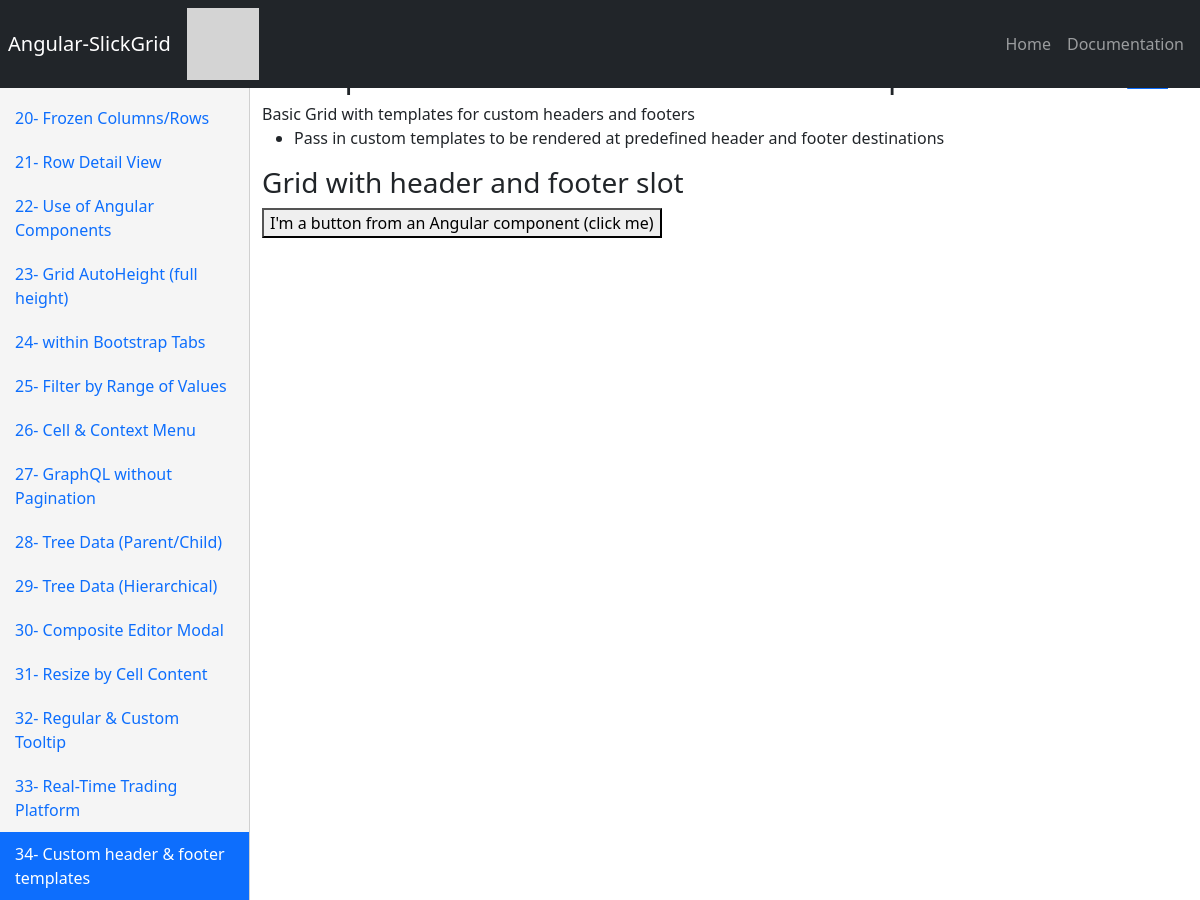
Test case: Example 34 - Custom header & footer › should have a custom footer with a clickable button
(page scrolled)
Step 1. Click the button "I'm a button from an Angular component (click me)" → [462, 223], box left=262, top=208, right=662, bottom=238
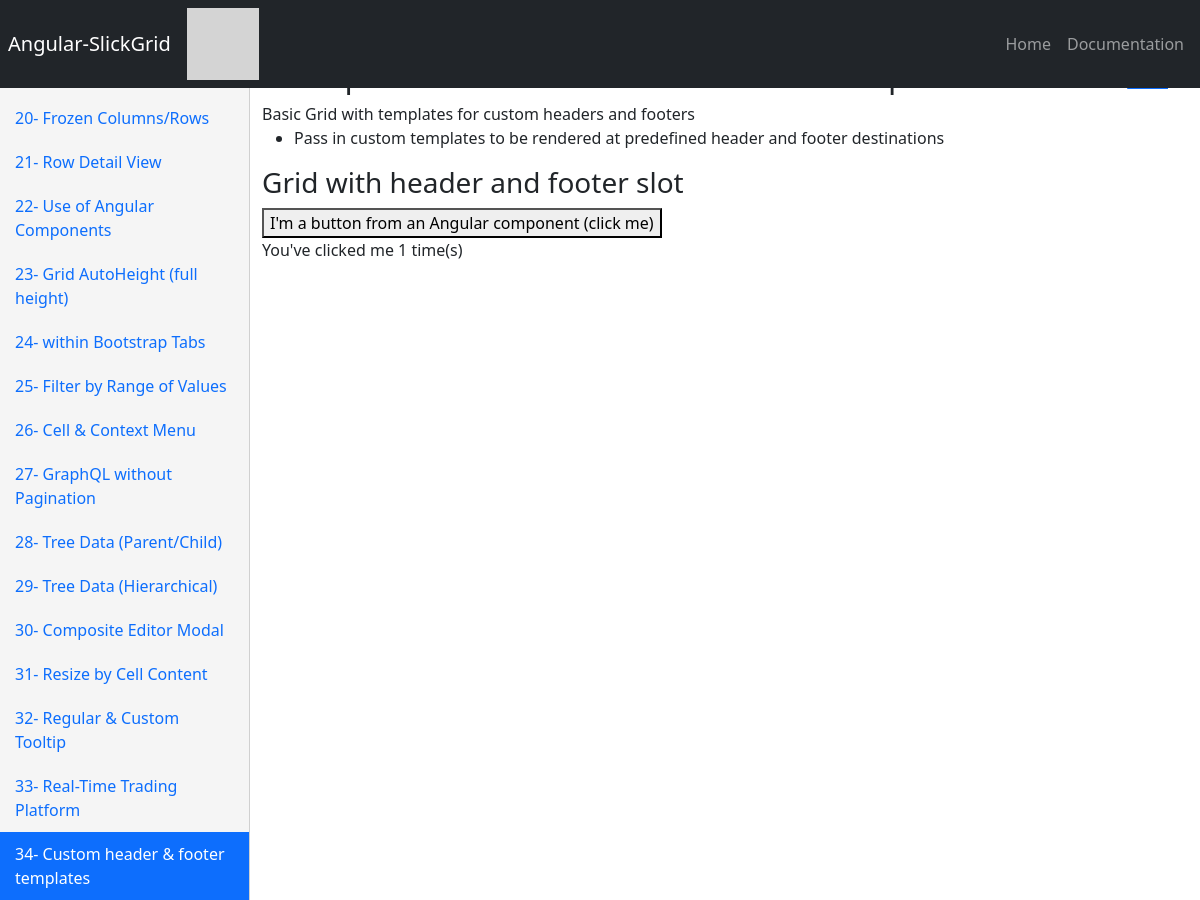
Step 2. Click the button "I'm a button from an Angular component (click me)" → [462, 223], box left=262, top=208, right=662, bottom=238
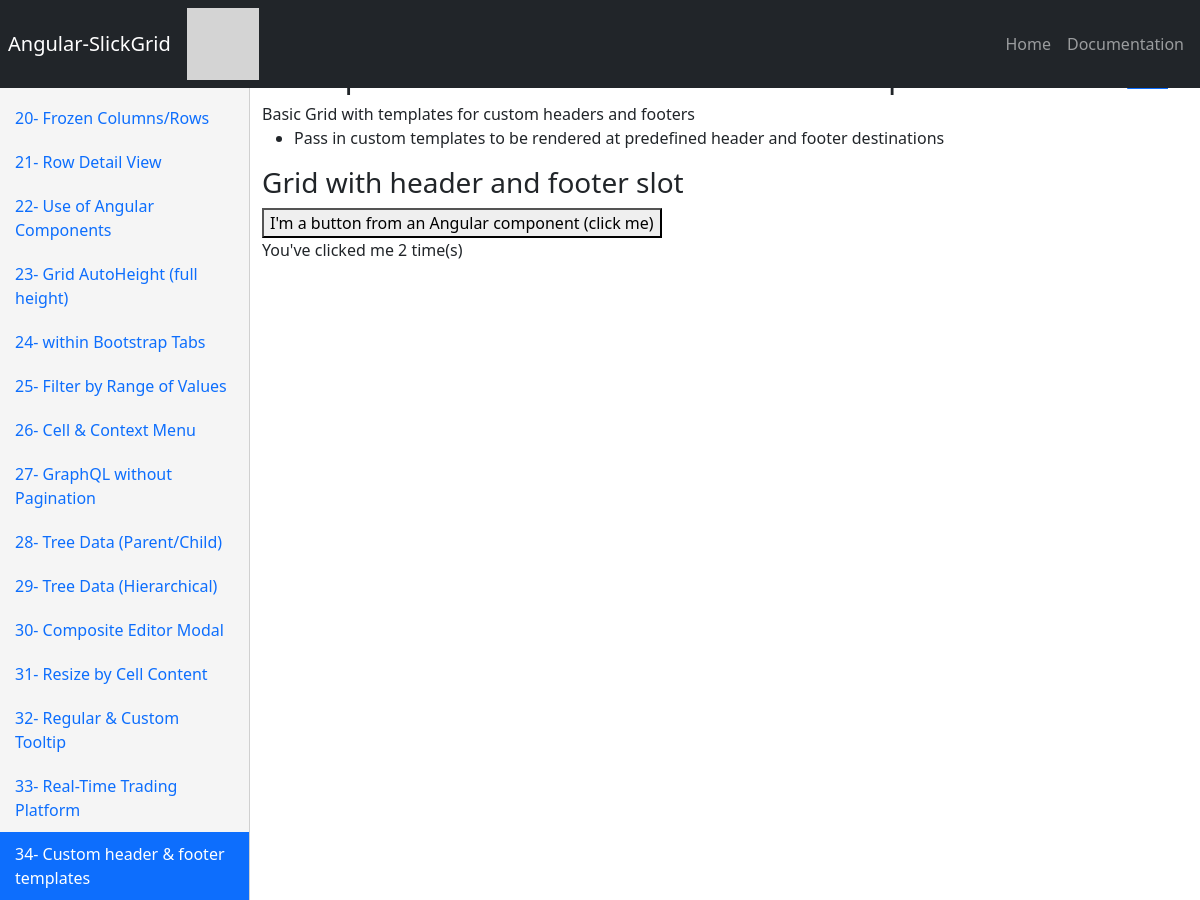
Check: the text "You've clicked me 2 time(s)" is shown, box left=262, top=239, right=462, bottom=261
